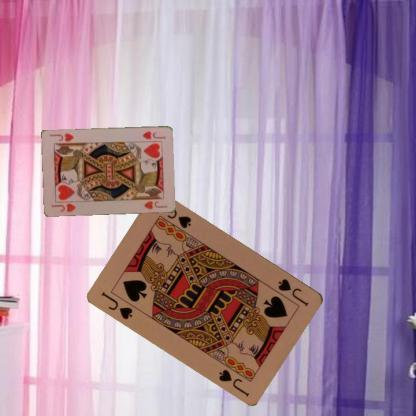Jh: (49, 201, 77, 213), (140, 128, 167, 140)
Js: (98, 288, 134, 321), (276, 276, 310, 308)
